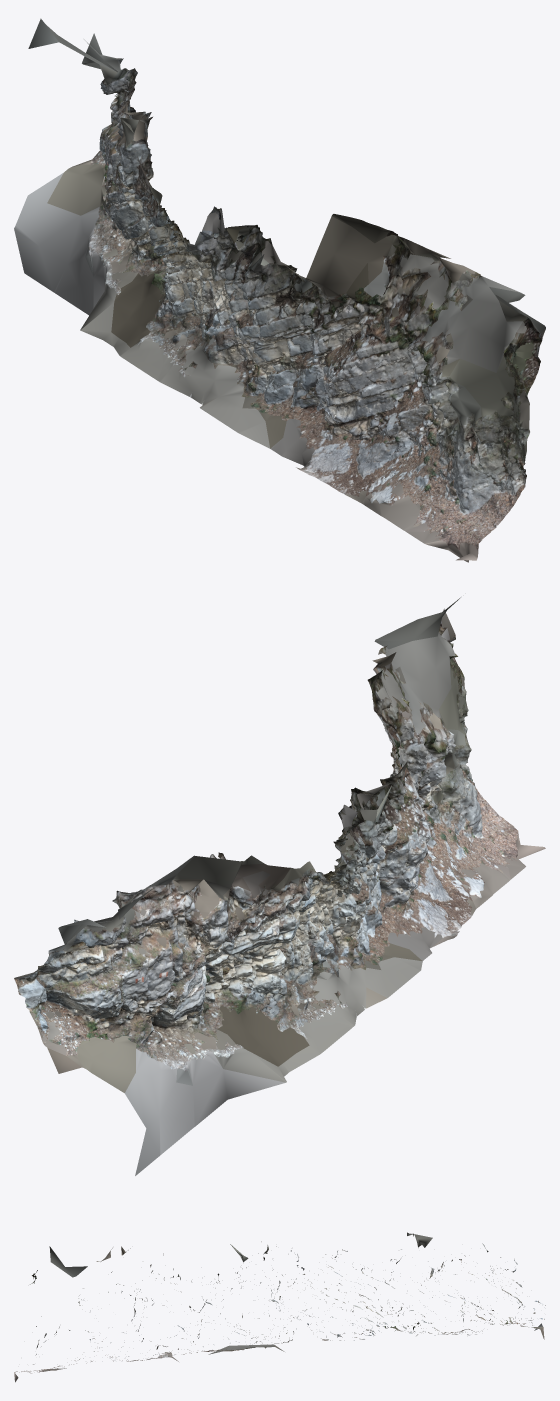
The picture shows the model from 3 angles, top to bottom: view 1: azimuth 30°, elevation 25°; view 2: azimuth 150°, elevation 25°; view 3: azimuth 270°, elevation 25°; orthographic projection. The views are drawn at different scales.
Visible parts, largest first — view 1: Mesh_0_Part_0.001; view 2: Mesh_0_Part_0.001; view 3: Mesh_0_Part_0.001.
Part boxes in pixels (x1=…): Mesh_0_Part_0.001: x1=14, y1=18, x2=545, y2=562; Mesh_0_Part_0.001: x1=14, y1=597, x2=545, y2=1175; Mesh_0_Part_0.001: x1=14, y1=1232, x2=545, y2=1382.
Bounding box in the file's own units: 0.1978 × 0.2794 × 0.7889.
Materials: 1 (1 with a texture image).
